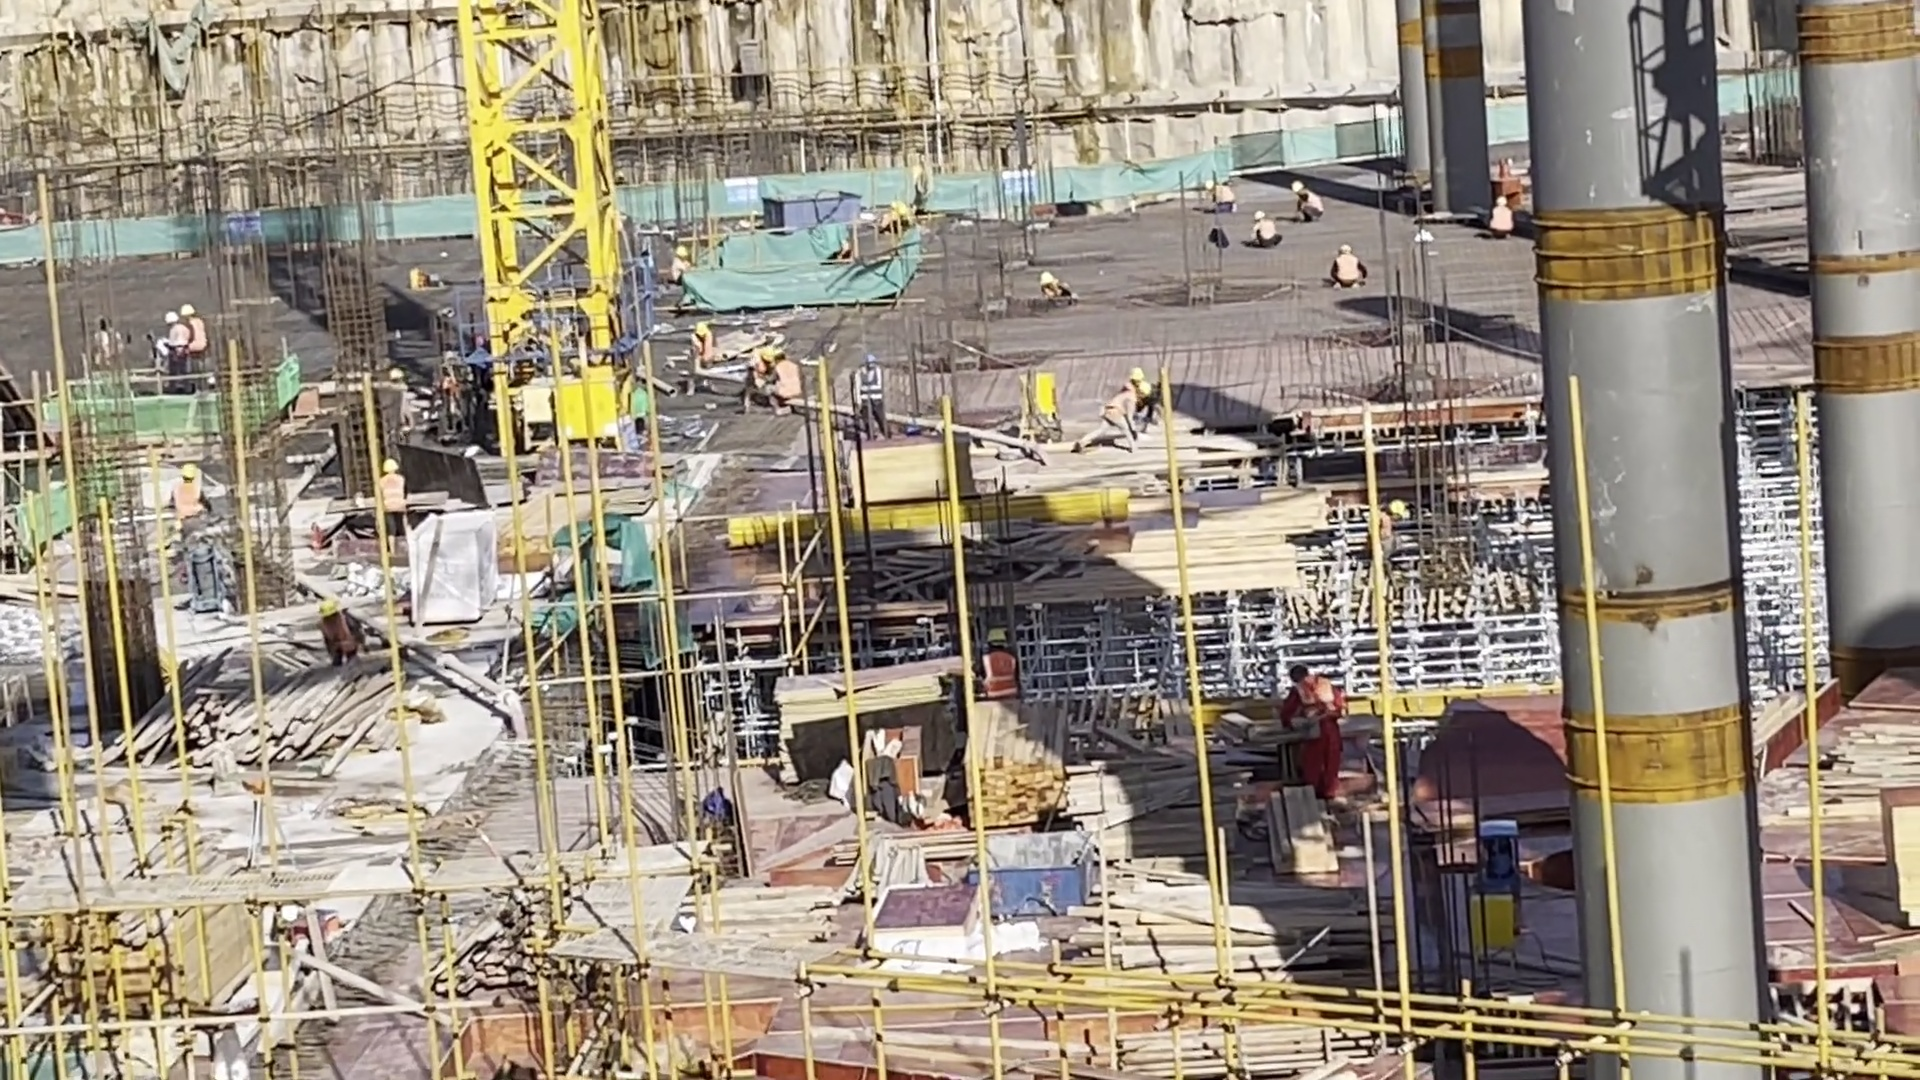helmet: (319, 601, 342, 629), (174, 302, 199, 326), (977, 627, 1005, 646), (161, 305, 179, 331), (1340, 243, 1361, 264), (1383, 498, 1406, 517), (173, 455, 187, 482), (1125, 363, 1145, 382), (382, 457, 400, 480), (1252, 210, 1273, 227), (1495, 195, 1514, 214), (860, 354, 878, 370), (694, 319, 708, 340), (1040, 269, 1053, 290), (673, 245, 688, 262), (1291, 177, 1307, 193), (1200, 179, 1214, 193)
person: (1274, 662, 1357, 805), (847, 352, 894, 436), (1080, 381, 1134, 454), (168, 457, 217, 535), (971, 625, 1020, 703), (771, 357, 817, 428), (741, 345, 792, 407), (373, 462, 410, 545), (1365, 496, 1408, 558), (178, 300, 215, 372), (685, 318, 721, 387), (1030, 265, 1082, 310), (1328, 239, 1371, 286), (160, 312, 188, 383), (1476, 194, 1524, 235), (1125, 368, 1159, 423), (1293, 180, 1323, 226), (1248, 213, 1282, 248), (1202, 179, 1238, 210), (666, 246, 697, 278)
vest: (1294, 687, 1330, 733), (981, 652, 1014, 694), (858, 369, 888, 406), (376, 473, 404, 511), (1335, 256, 1363, 279), (179, 484, 205, 510), (1488, 209, 1513, 233), (190, 319, 206, 351), (1216, 187, 1238, 208), (1257, 224, 1275, 241), (1307, 191, 1321, 212)
